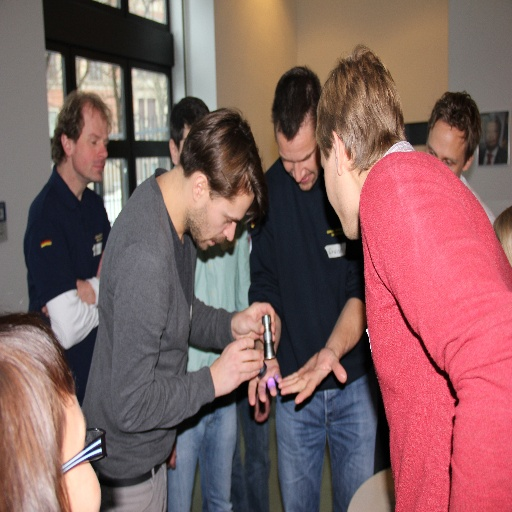hand: (277, 347, 347, 404), (216, 322, 252, 407), (42, 278, 95, 317), (247, 346, 282, 404), (229, 299, 275, 341), (253, 390, 271, 424), (165, 440, 177, 470)
